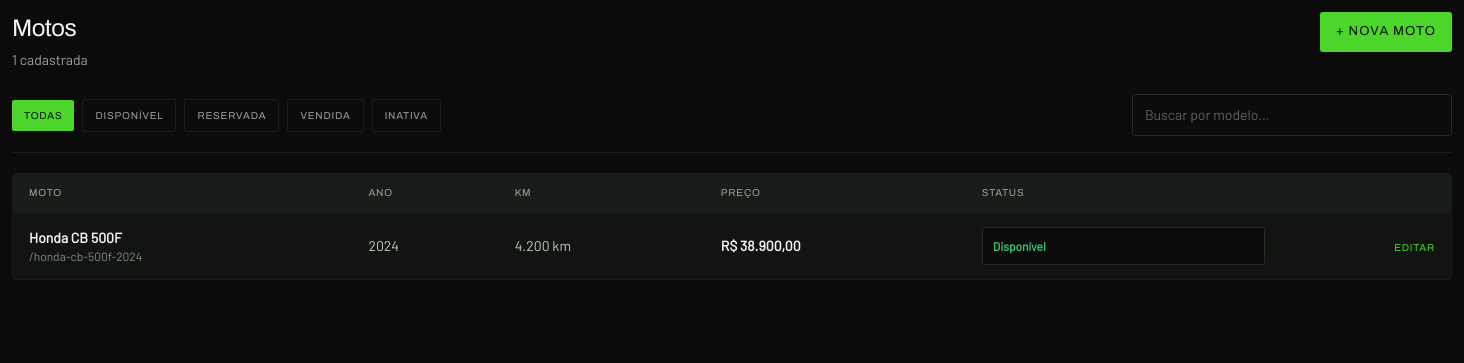
Test case: lista de motos do painel › falha ao trocar o status aparece na tela
expect the text "Honda CB 500F" is shown: met, box [29, 229, 122, 246]
Select "Vendida" in the dropdown named "Status de CB 500F" at point(1123, 246), box [982, 227, 1265, 265]
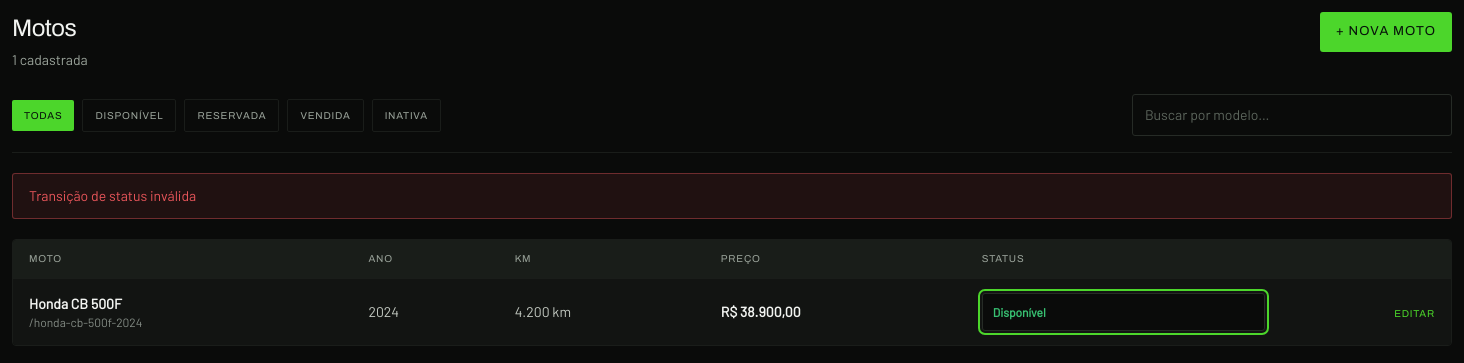
expect the text "Transição de status inválida" is shown: met, box [12, 173, 1452, 219]
